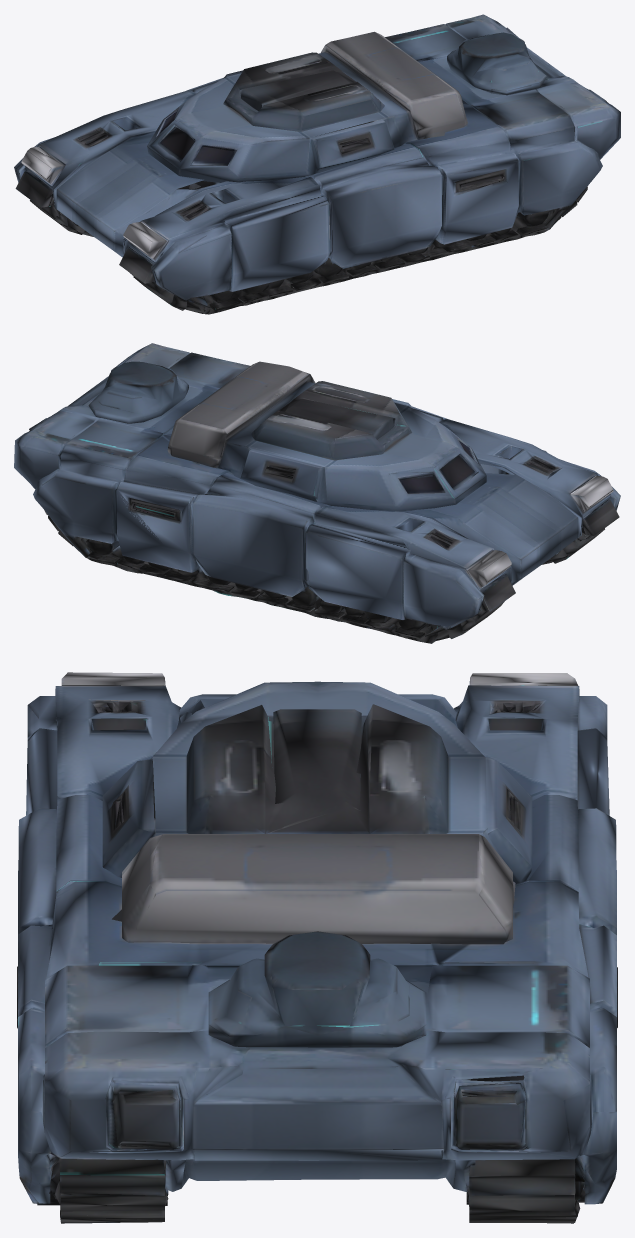
File: body.glb
3 views of the same model, one above another, from view 1: azimuth 30°, elevation 25°; view 2: azimuth 150°, elevation 25°; view 3: azimuth 270°, elevation 25° (orthographic). The views are drawn at different scales.
Visible parts, largest first — view 1: Body; view 2: Body; view 3: Body.
Boxes of the visible parts, x1,y1,x2,y2 form: Body: (14,14,620,314); Body: (14,343,620,643); Body: (17,672,617,1223).
Size of the model in its own units: 0.6177 by 0.1816 by 0.3354.
1 material, 1 textured.
